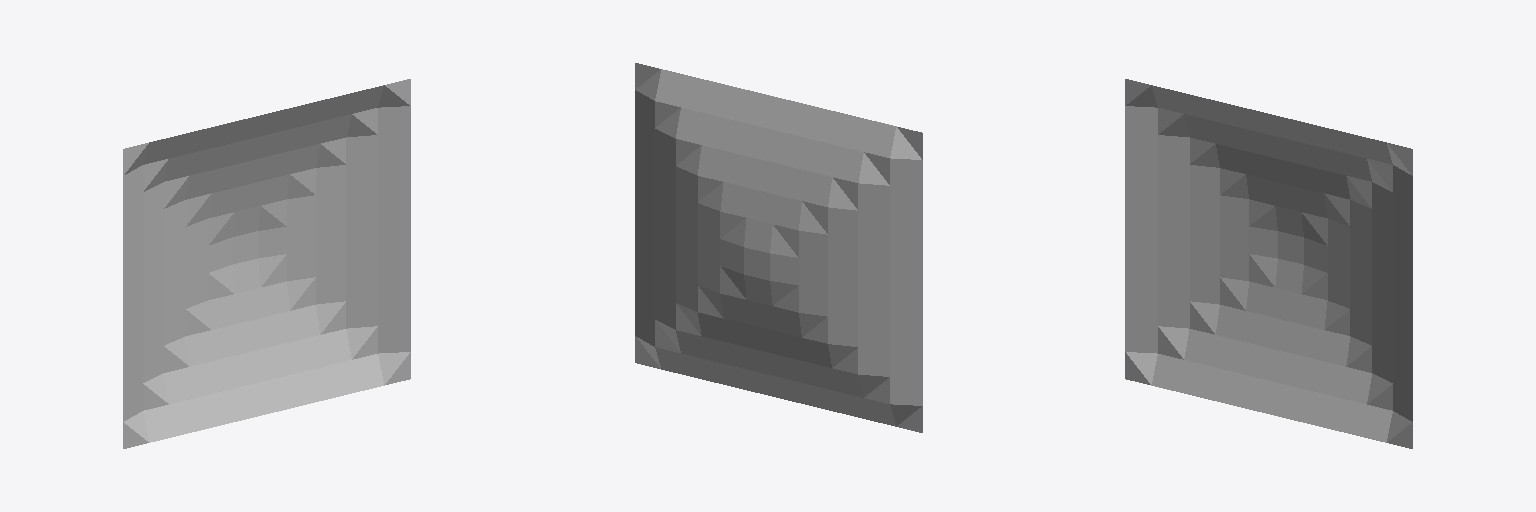
File: Background.obj
3 renders of one model, left to right at view 1: azimuth 30°, elevation 25°; view 2: azimuth 150°, elevation 25°; view 3: azimuth 330°, elevation 25°, orthographic.
Visible parts, largest first — view 1: 平面; view 2: 平面; view 3: 平面.
Part boxes in pixels (x1,y1,x2,y2): 平面: (123,79,410,448); 平面: (635,63,922,432); 平面: (1125,79,1412,448).
Bounding box in the file's own units: 10 × 10 × 1.32.